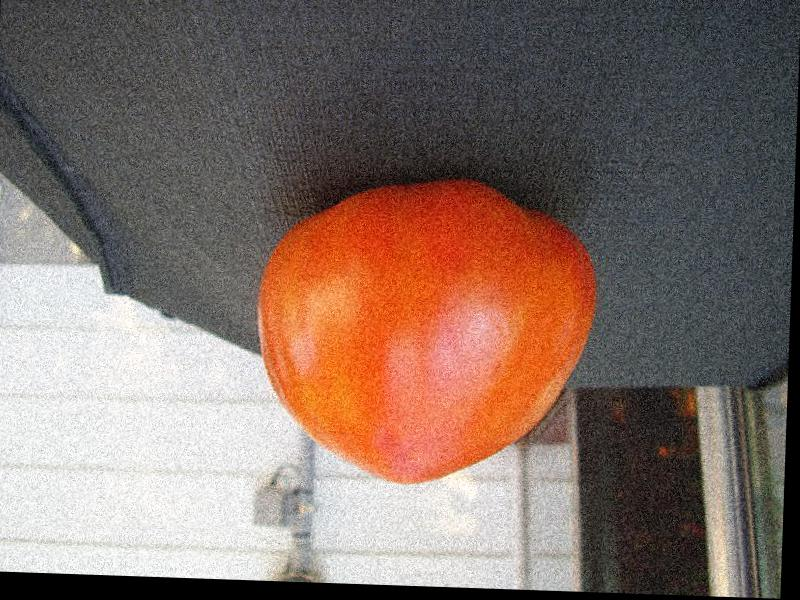Tomato: (252, 175, 600, 492)
